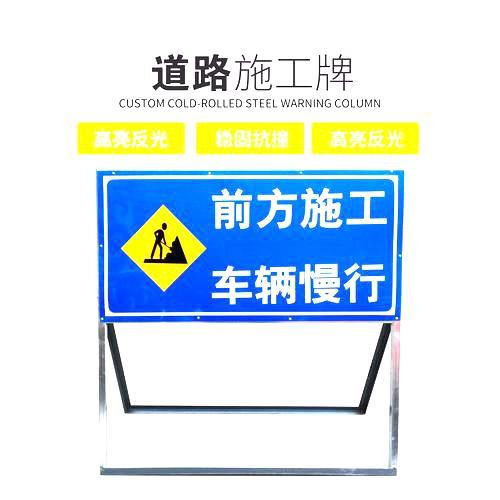sign: (95, 172, 401, 320)
